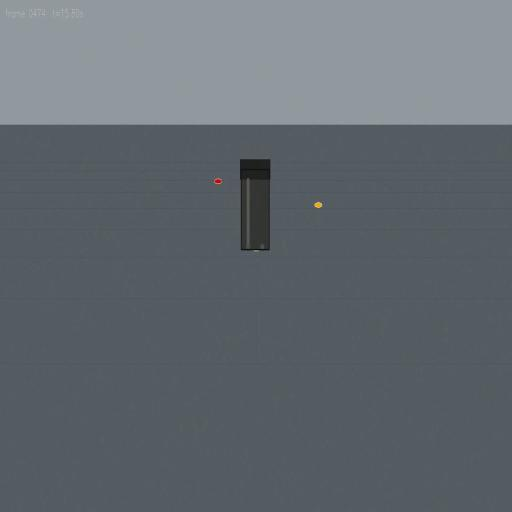bin: (239, 158, 271, 252)
